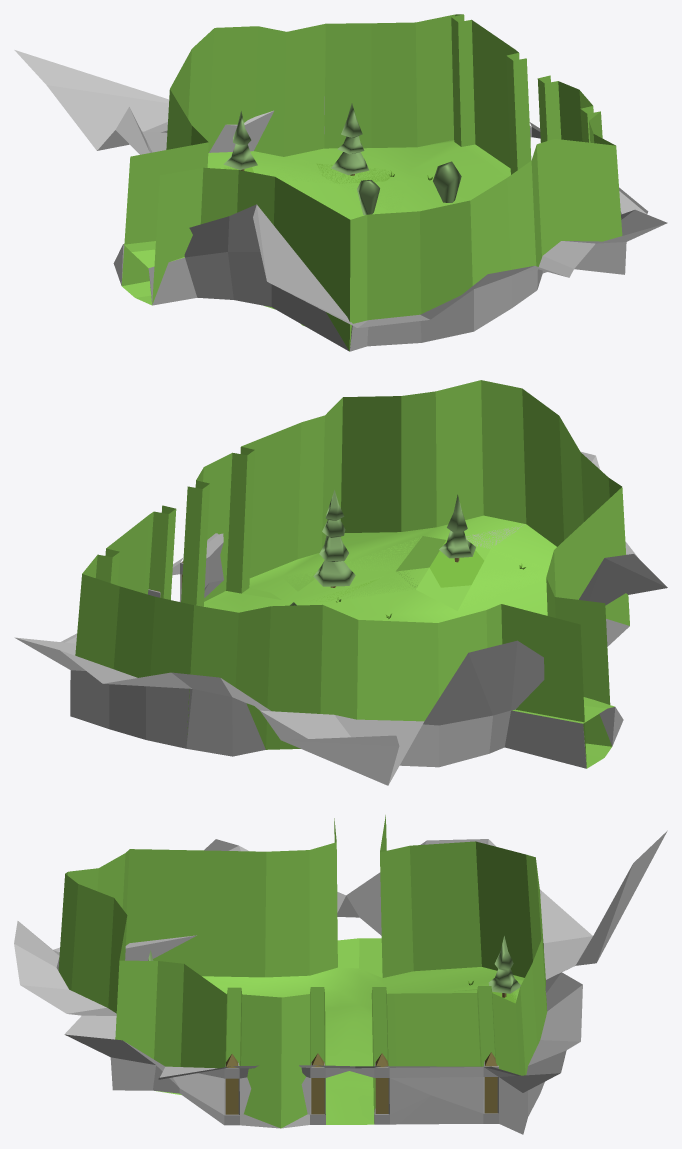
3 renders of one model, top to bottom at view 1: azimuth 30°, elevation 25°; view 2: azimuth 150°, elevation 25°; view 3: azimuth 270°, elevation 25°, orthographic. The views are drawn at different scales.
Visible parts, largest first — view 1: simple, level10; view 2: simple, level10; view 3: simple, level10.
Boxes of the visible parts, x1,y1,x2,y2 form: simple: (121,14,622,350); level10: (14,50,667,351); simple: (75,380,629,768); level10: (14,452,667,785); simple: (58,815,547,1128); level10: (14,830,667,1134).
Bounding box in the file's own units: 54.47 × 22.16 × 70.59.
